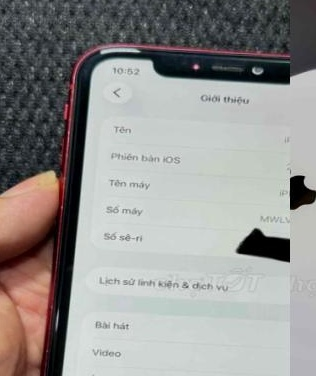scratch: (35, 218, 65, 376)
